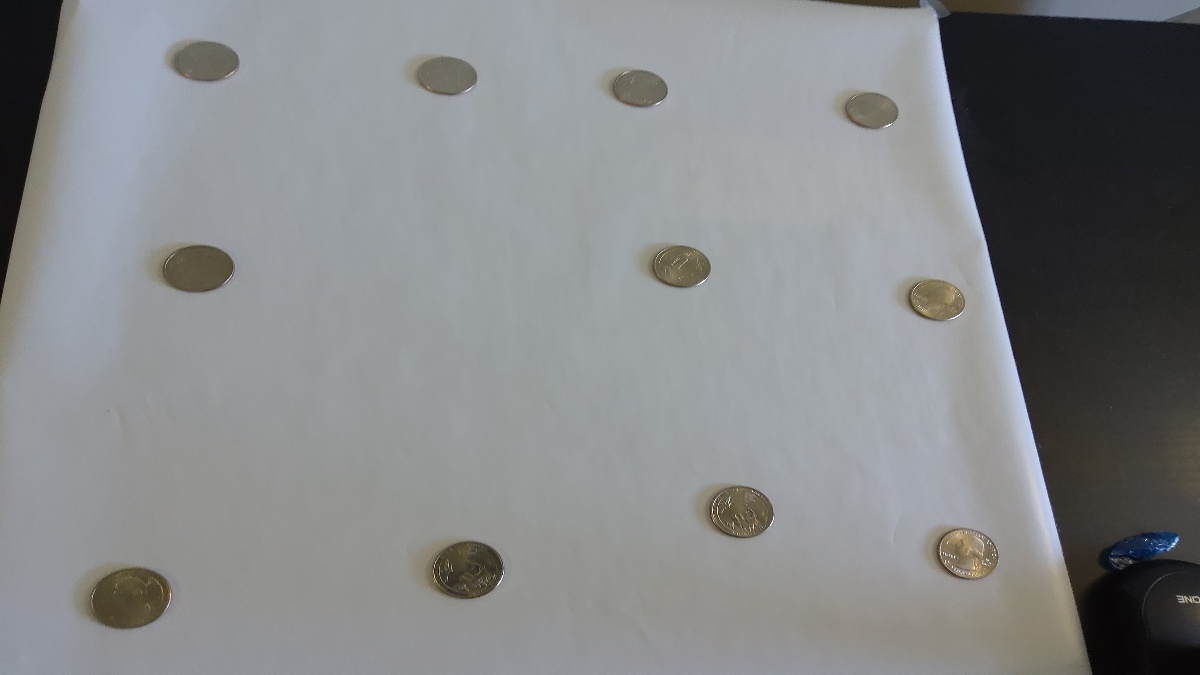coin_quarter: (84, 558, 176, 634), (925, 517, 1008, 587), (701, 477, 783, 547), (428, 536, 511, 604), (154, 238, 242, 298), (649, 233, 720, 298), (166, 31, 243, 88), (901, 272, 972, 327), (411, 49, 485, 98), (840, 80, 900, 136), (612, 62, 672, 114)
